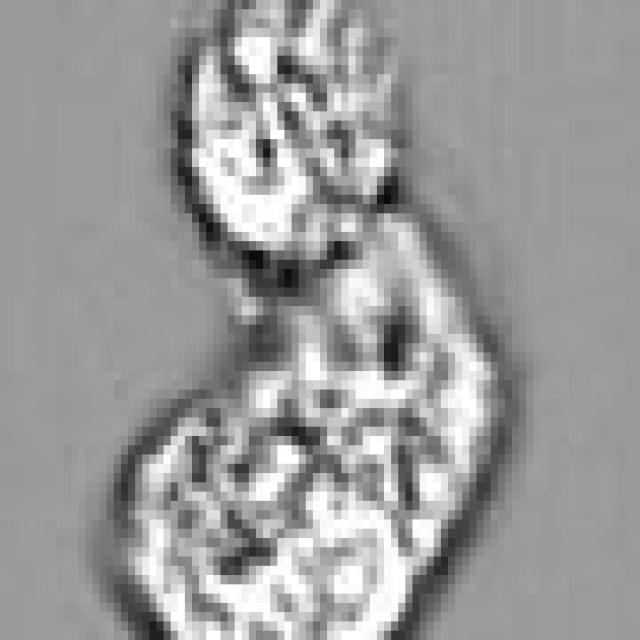Cancer Cell: (107, 195, 505, 631)
WBC: (178, 9, 398, 260)
